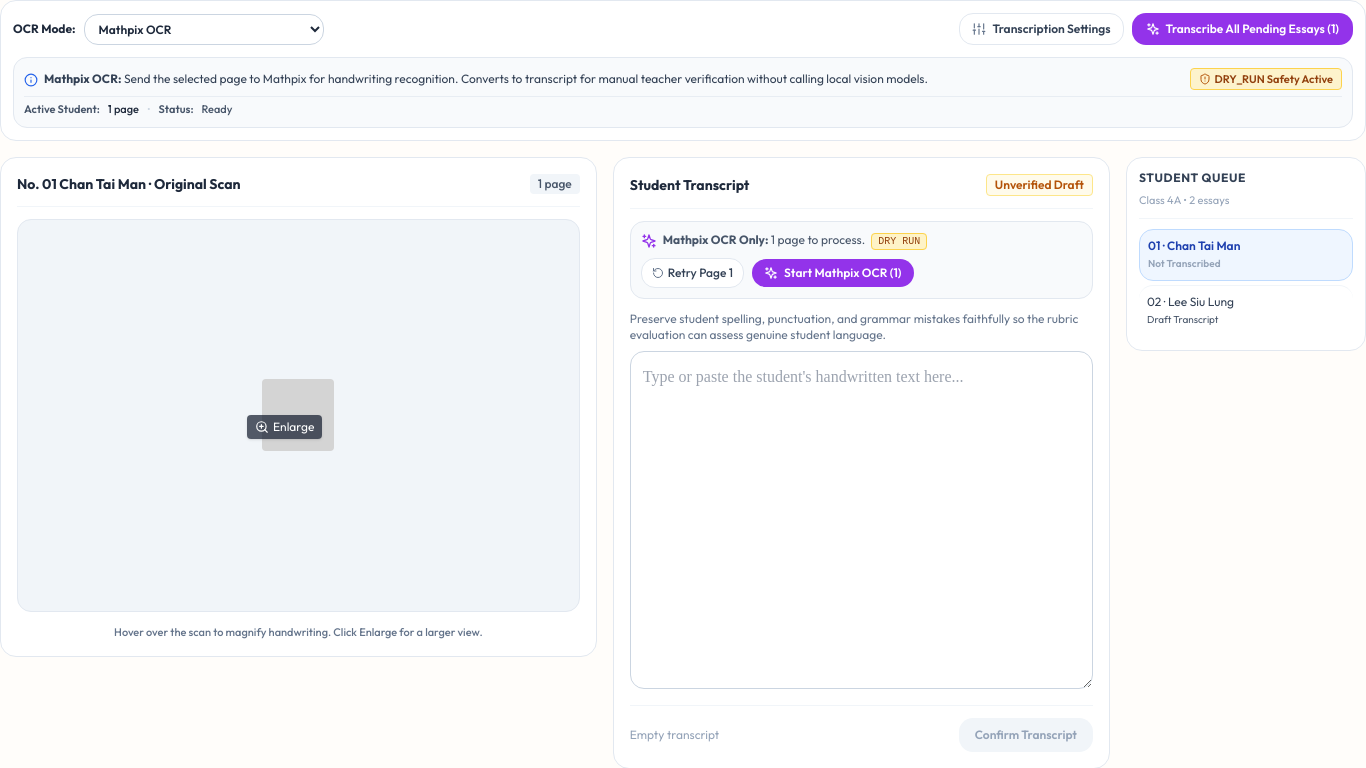
Qwen VL OCR — Local only Option & Pipeline Requirements › 2. Qwen VL Only: Zero Mathpix calls across Batch, Student, and Page Retry › fails visibly with actionable error when local VL service on 18088 is offline, with ZERO Mathpix fallback
This screenshot has width=1366, height=768.
Select "Qwen VL OCR — Local only" in the dropdown labelled "OCR Mode:": coordinates (204, 29) [84, 14, 324, 44]
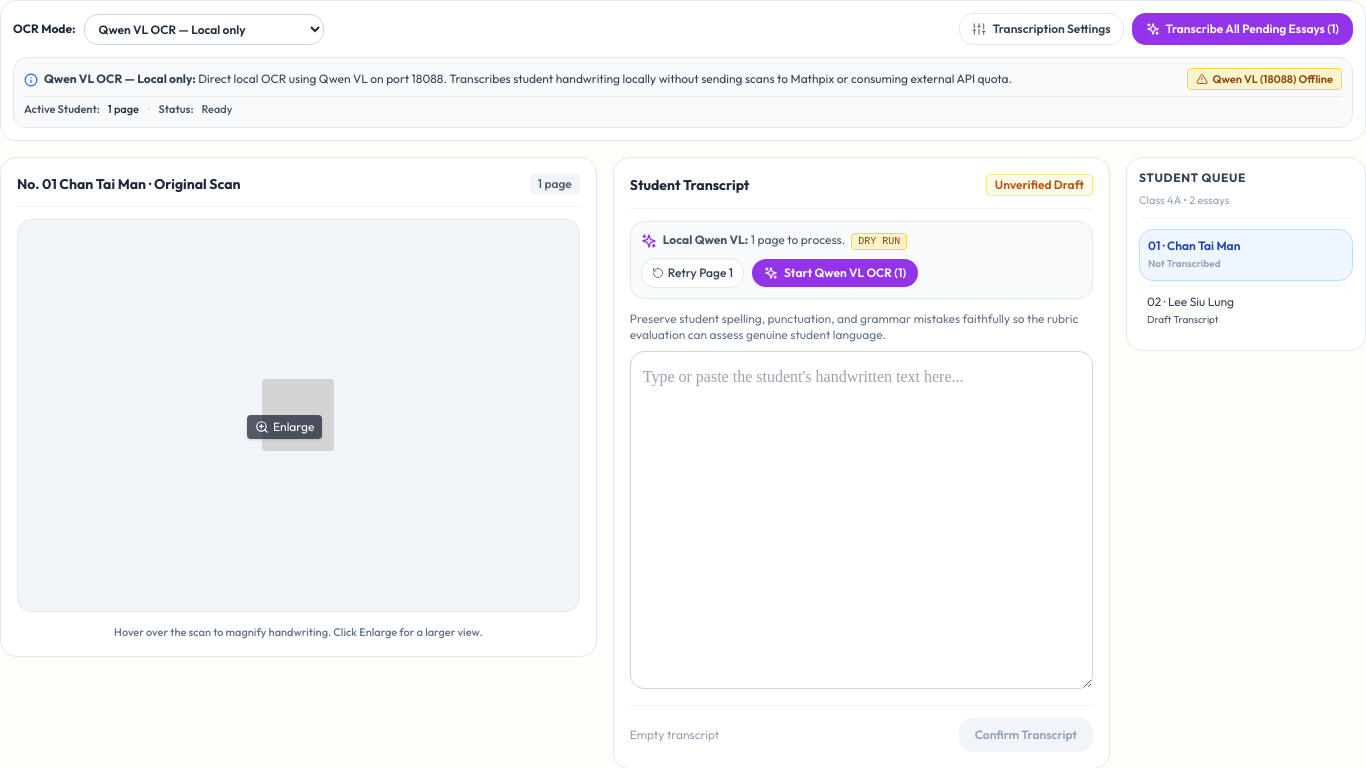
Click the button "Start Qwen VL OCR (1)": coordinates (835, 273) [752, 259, 918, 287]
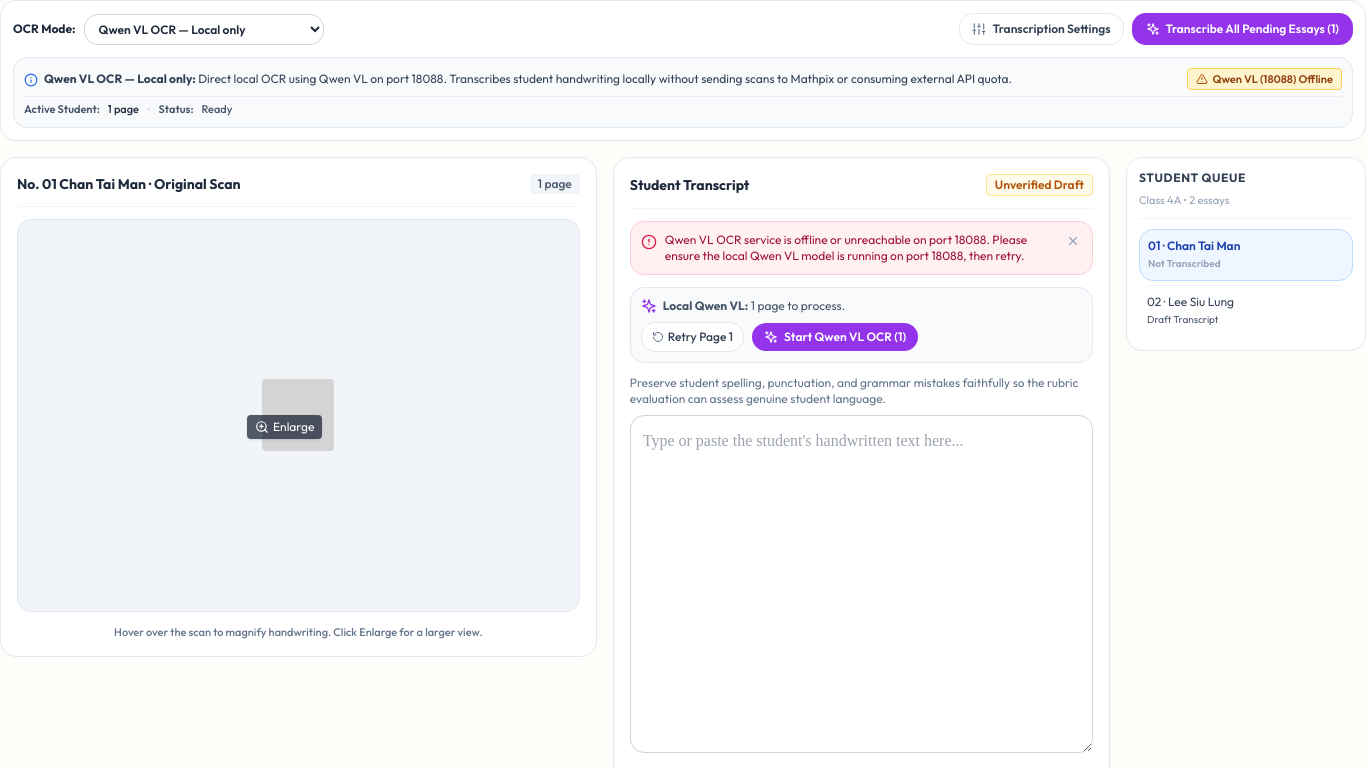
Expected: the text "Qwen VL OCR service is offline or unreachable on port 18088" is shown, [665, 232, 1027, 263]
